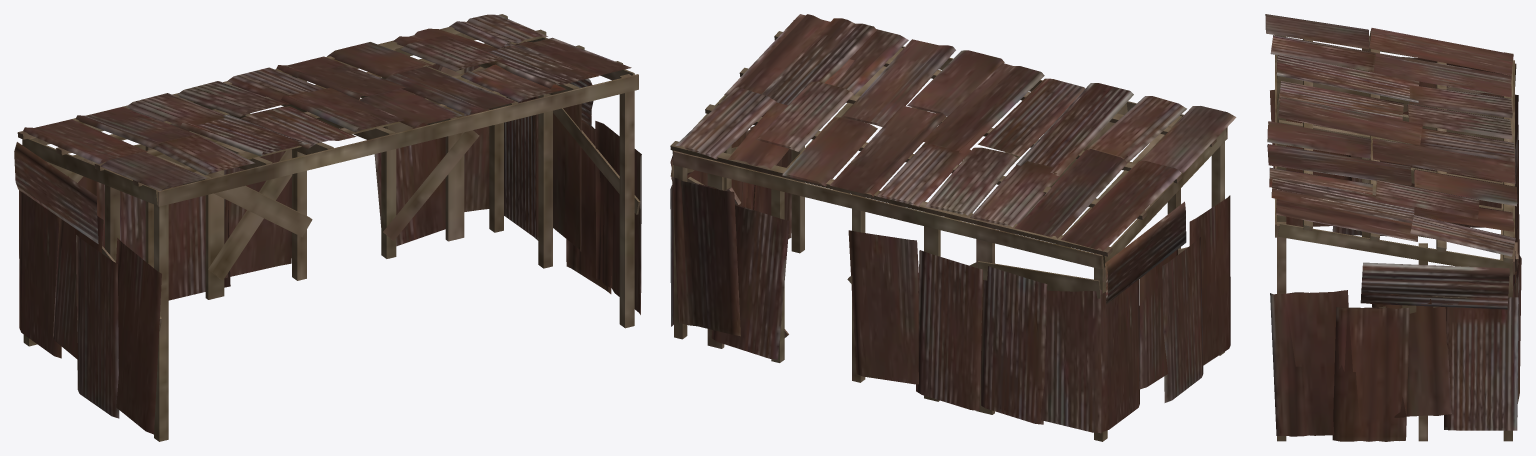
Rendered from swamp-shack.zfix-v14.lod1.glb.
3 renders of one model, left to right at view 1: azimuth 30°, elevation 25°; view 2: azimuth 150°, elevation 25°; view 3: azimuth 270°, elevation 25°, orthographic. The views are drawn at different scales.
Visible parts, largest first — view 1: Object_16; view 2: Object_16; view 3: Object_16.
Boxes of the visible parts, left/top/right/bottom form: Object_16: left=14, top=14, right=641, bottom=441; Object_16: left=670, top=14, right=1236, bottom=441; Object_16: left=1265, top=14, right=1521, bottom=441.
Bounding box in the file's own units: 7.98 × 4.05 × 4.09.
Materials: 1 (1 with a texture image).
